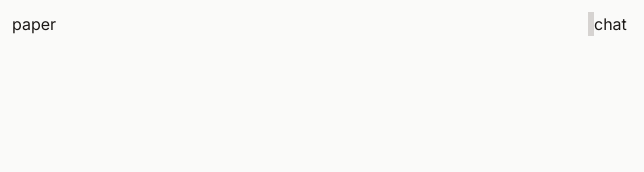
Scenario: SplitPane › resets to an even split on double-click
Press Home in the element named "resize", box [588,12,594,36]
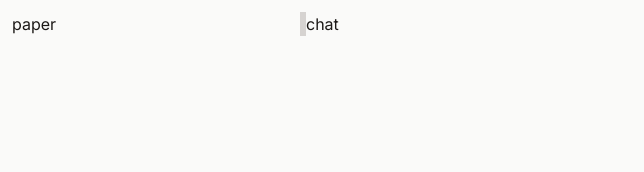
Double-click the element named "resize".
double_click(303, 24)  # box [300,12,306,36]
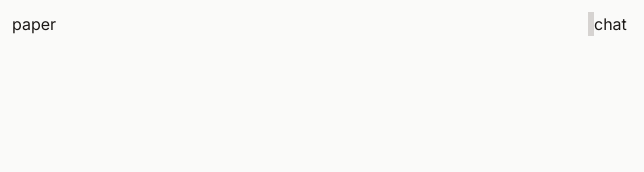
Expected: the element named "resize" has attribute aria-valuenow="50", [588,12,594,36]
